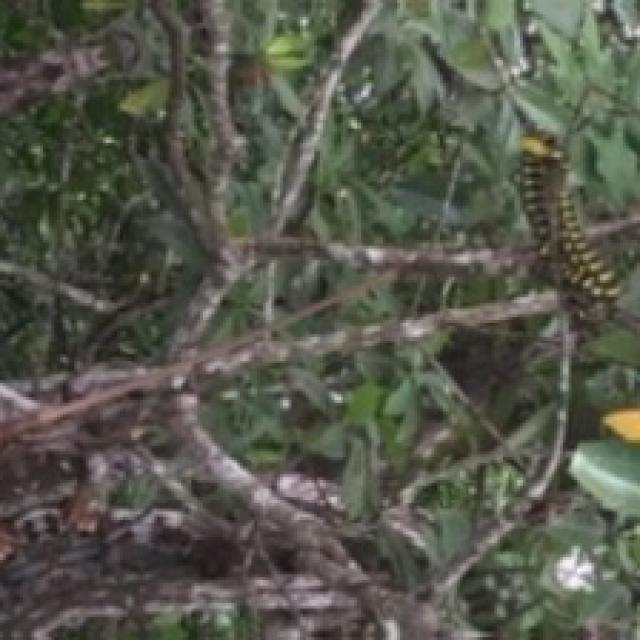mangrove cat snake: (520, 129, 617, 300)
